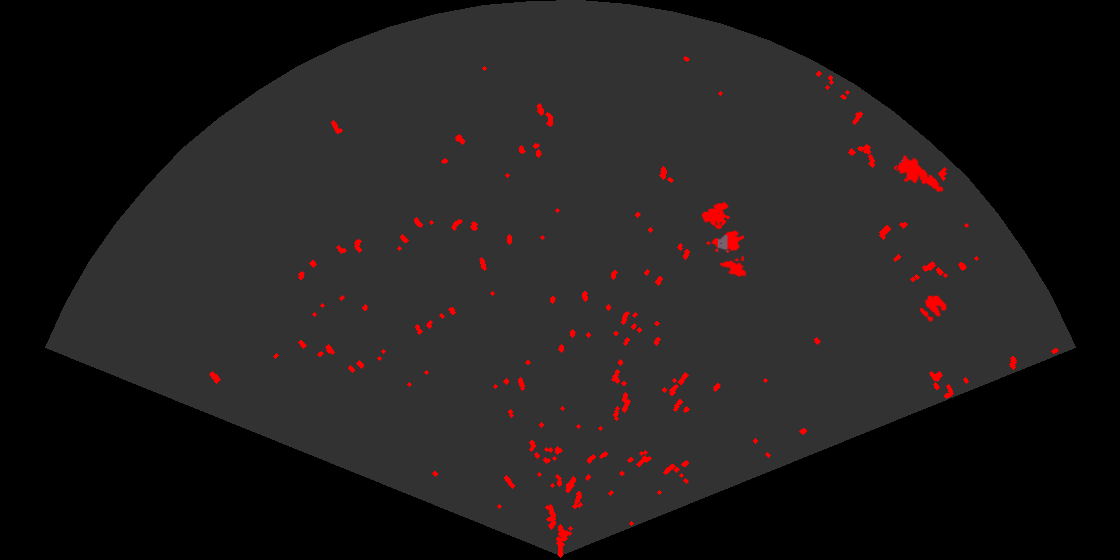AUV: (718, 257, 748, 279)
ball: (918, 294, 948, 323)
cage: (700, 200, 744, 261)
frogman: (895, 154, 945, 194)
